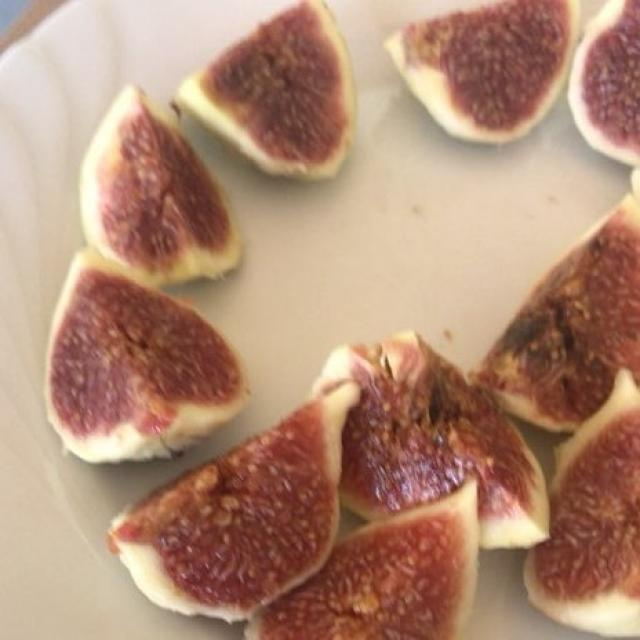figs: (124, 390, 349, 612), (336, 351, 538, 534), (53, 266, 222, 439), (533, 216, 638, 412), (310, 513, 466, 628), (107, 130, 212, 266), (565, 422, 639, 598), (433, 6, 550, 108), (240, 45, 339, 145), (593, 26, 639, 142)
